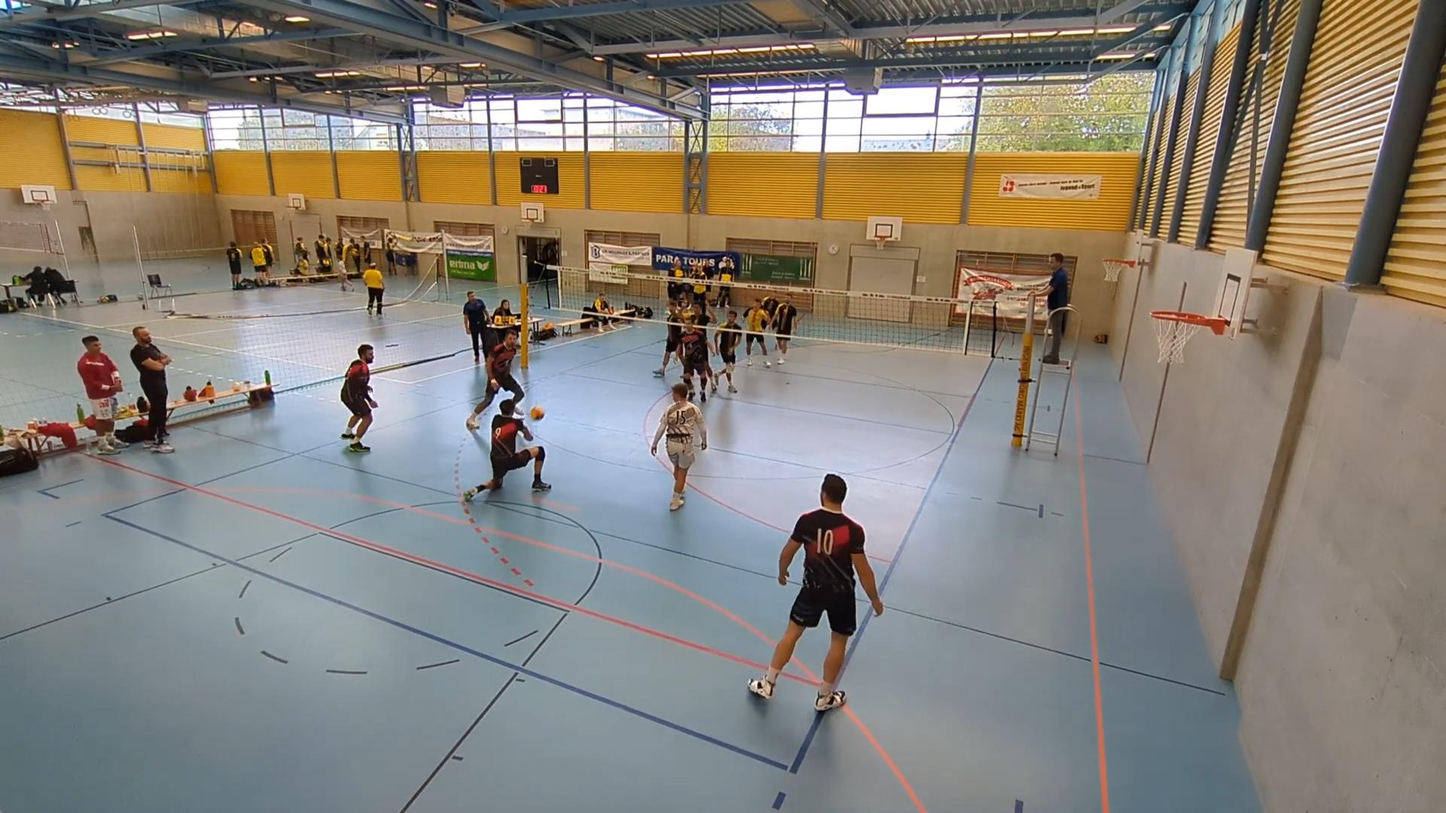Player: (749, 473, 883, 711), (463, 399, 551, 501), (651, 383, 706, 510), (465, 330, 524, 430), (340, 344, 377, 452), (679, 315, 712, 402), (715, 309, 743, 392), (654, 300, 684, 376), (772, 297, 799, 365), (744, 299, 770, 366), (705, 345, 717, 391)
Receive: (460, 396, 554, 506)
ball: (530, 406, 546, 419)
